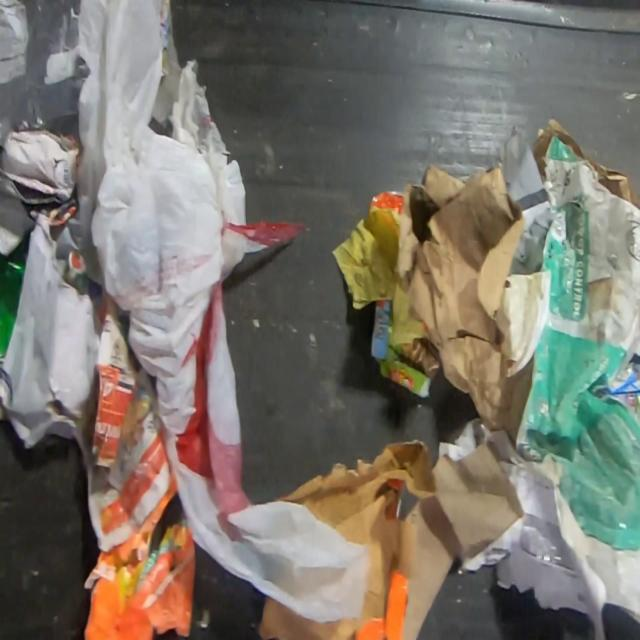cardboard: (261, 438, 526, 640), (396, 162, 550, 442), (530, 117, 634, 204), (370, 297, 438, 402), (588, 358, 640, 433)
metal: (366, 183, 406, 215)
soft_plastic: (69, 0, 368, 626), (0, 1, 88, 145)
